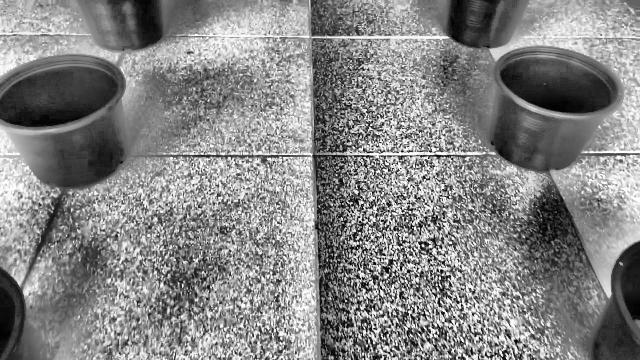pot: (0, 55, 130, 190), (490, 46, 623, 172)
